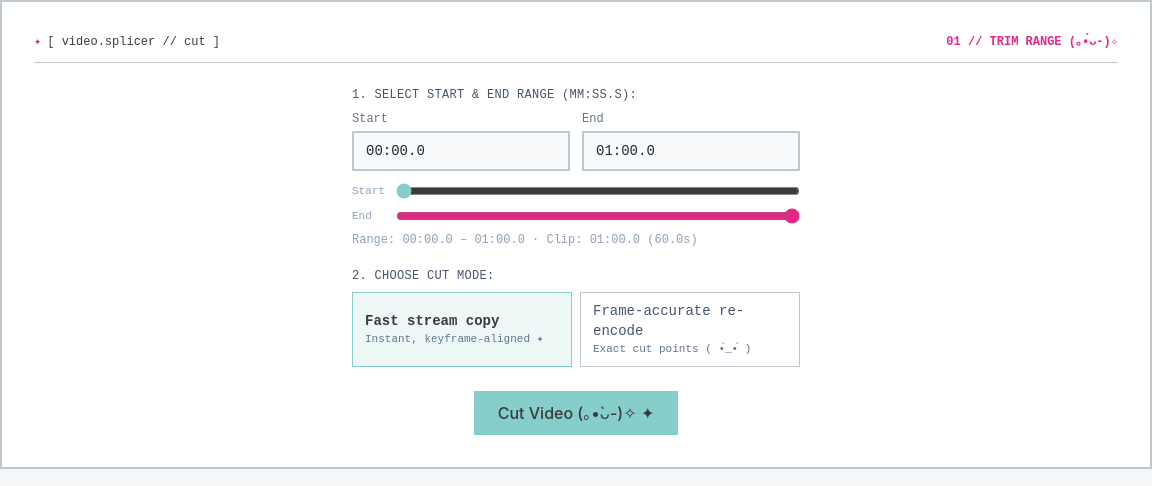
Test: CutPanel › polling progress and terminal states › updates UI through Pending -> Failed and displays error message
The width and height of the screenshot is (1152, 486).
Later steps or results of the test are not shown.
What coordinates should you click on to do the following:
click the button with test id "start-cut-btn"
I would click on:
 (576, 412)
Its box is [474,390,678,434].
Wait 1000 ms
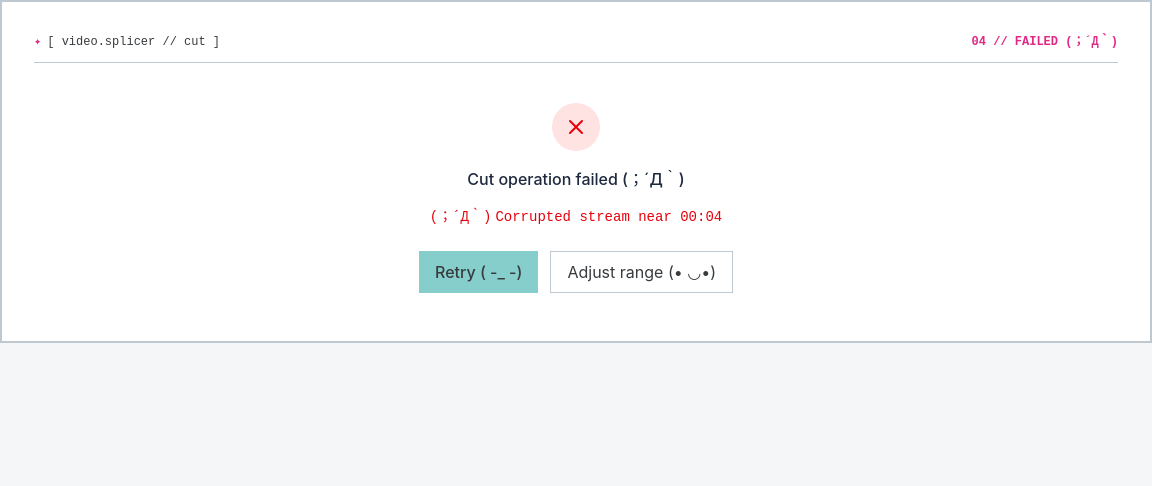
Check: the element with test id "cut-error" is shown, box [419,103,733,293]
Check: the message with test id "cut-error-message" shows "Corrupted stream near 00:04", box [495,209,722,225]
